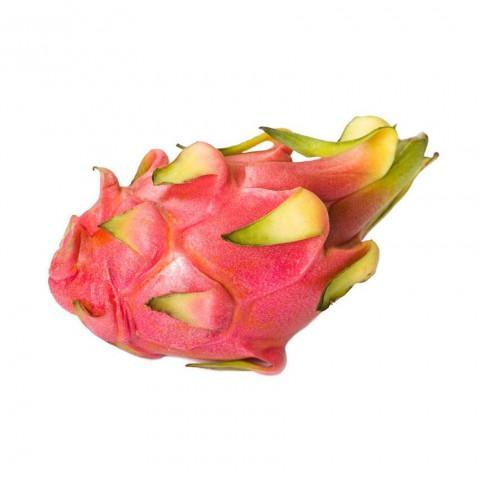dragon-fruit: (46, 147, 364, 363)
